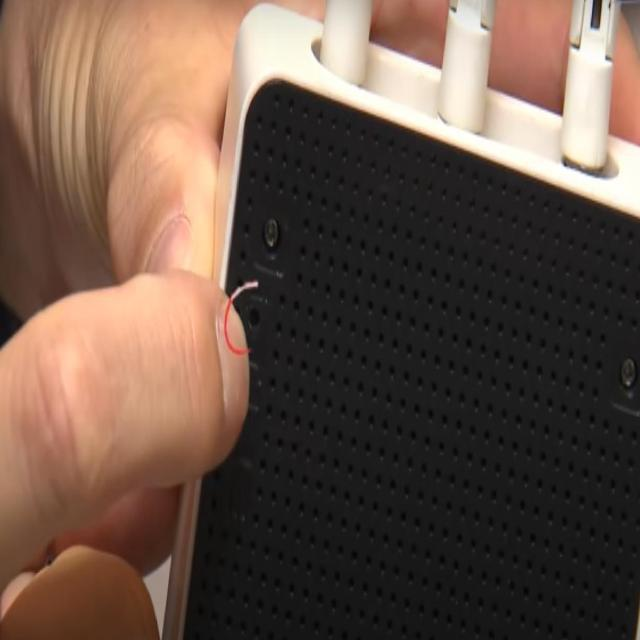hidden camera: (242, 289, 267, 344)
